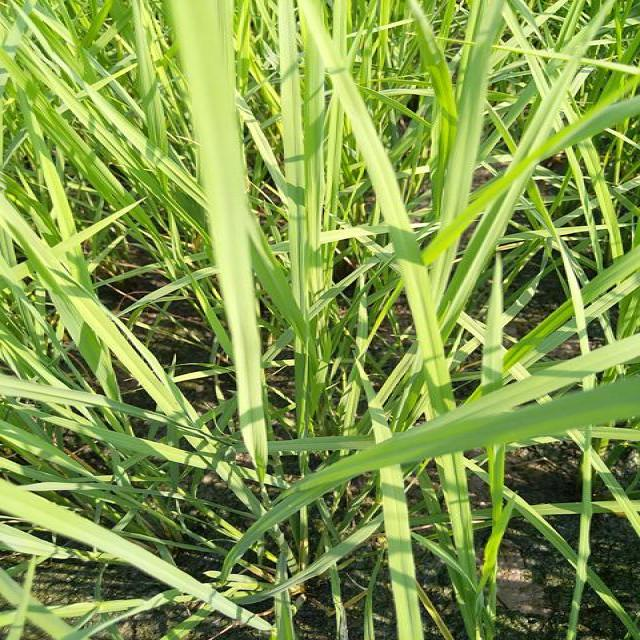Rice: (170, 1, 268, 478), (434, 1, 508, 311), (361, 148, 451, 386), (503, 249, 638, 380), (367, 367, 419, 640), (30, 79, 92, 295), (268, 0, 308, 315), (426, 388, 476, 582), (310, 16, 382, 148), (322, 89, 349, 302), (485, 252, 504, 523)
